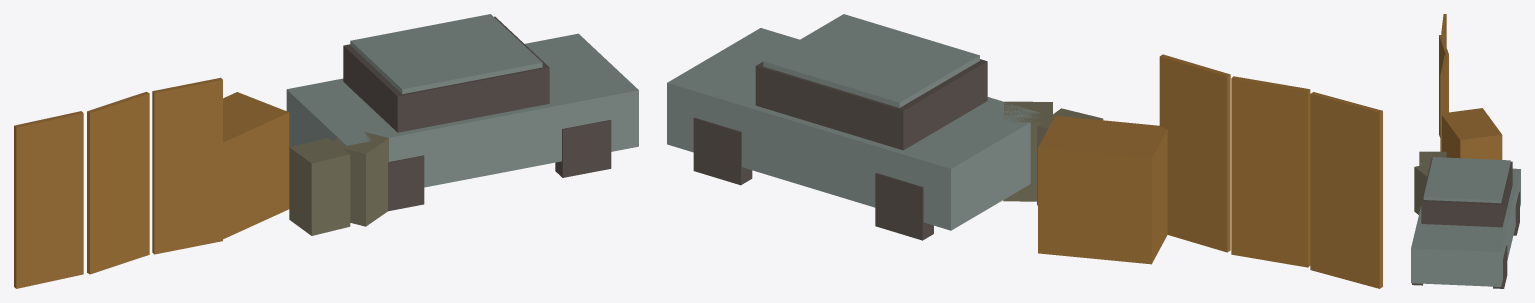
Rendered from SM_BarricadaCivil_v4_Mixta_e0_Sano_LOD0.fbx.
The picture shows the model from 3 angles, left to right: view 1: azimuth 30°, elevation 25°; view 2: azimuth 150°, elevation 25°; view 3: azimuth 270°, elevation 25°; orthographic projection. The views are drawn at different scales.
Parts seen in each view (by area): view 1: SM_barricada_civil_v16_LOD0; view 2: SM_barricada_civil_v16_LOD0; view 3: SM_barricada_civil_v16_LOD0.
Boxes of the visible parts, x1,y1,x2,y2 form: SM_barricada_civil_v16_LOD0: (14, 14, 638, 288); SM_barricada_civil_v16_LOD0: (667, 14, 1382, 288); SM_barricada_civil_v16_LOD0: (1411, 14, 1520, 288).
Bounding box in the file's own units: 7.9 × 2 × 2.
